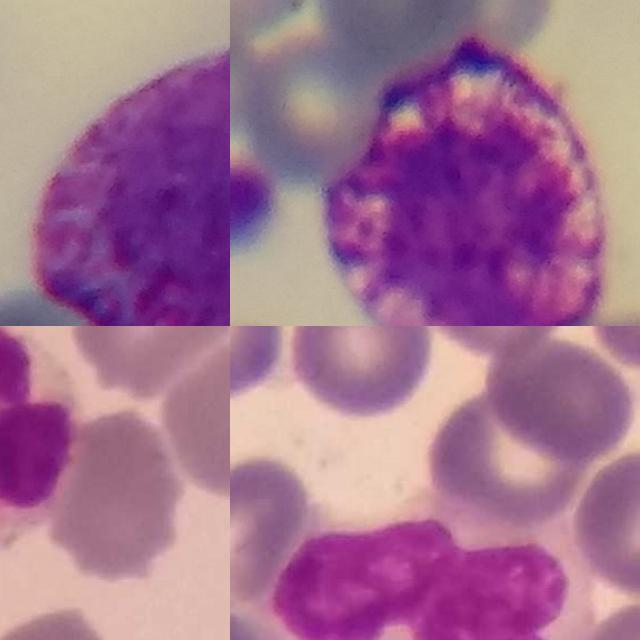Basophil: (320, 36, 606, 326), (30, 38, 230, 326)
Monocyte: (260, 497, 597, 640)
Neutrophil: (0, 326, 82, 569)
